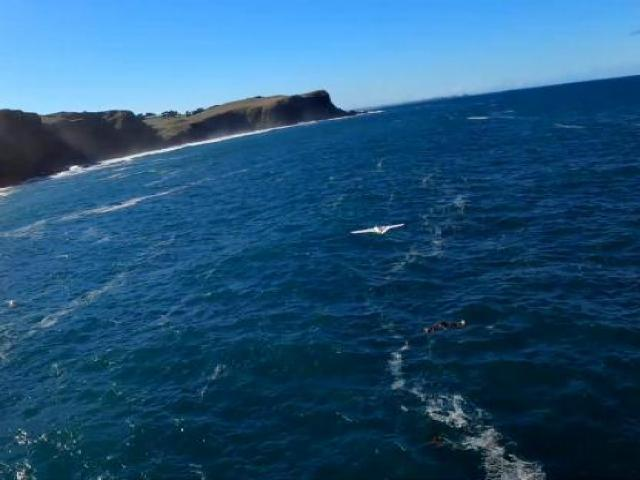uav: (348, 221, 408, 237)
